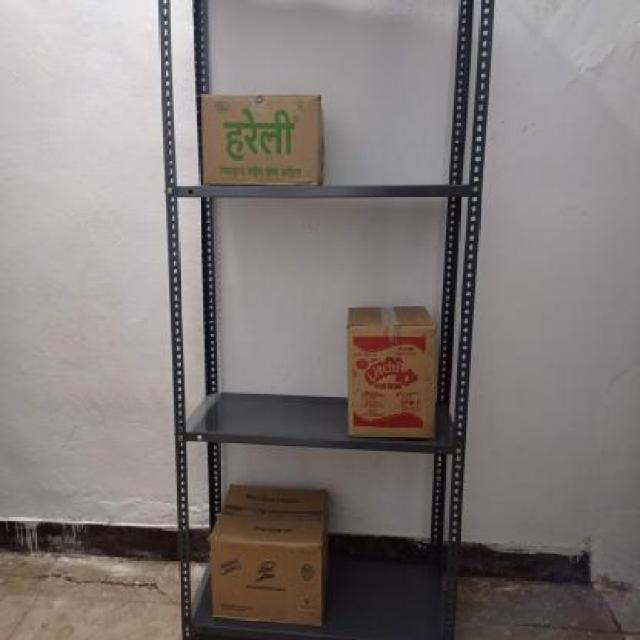box: (199, 94, 321, 183), (346, 322, 436, 442), (208, 538, 322, 626)
